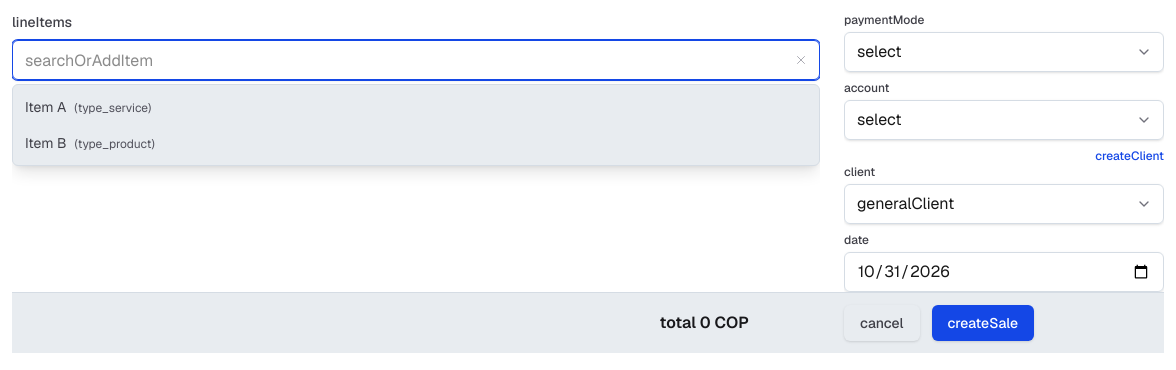
Test case: SaleForm POS search-add pattern (C12-3c) › selecting the same item again increments quantity (no new row)
expect the list with id "item-search-listbox" is shown: met, box [12, 84, 820, 166]
Press the mouse on the option "Item A(type_service)" at (88, 107), box [25, 98, 151, 116]
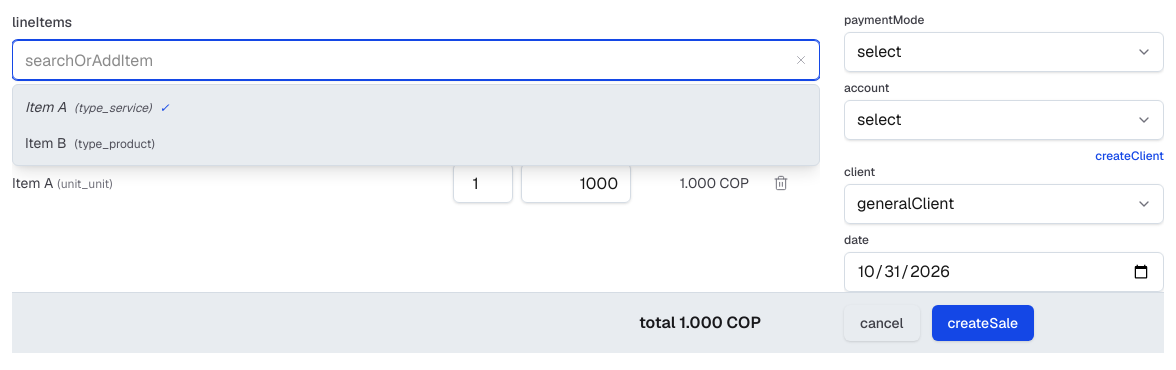
expect the list with id "item-search-listbox" is shown: met, box [12, 84, 820, 166]
Press the mouse on the option "Item A(type_service)✓" at (97, 107), box [25, 98, 169, 116]
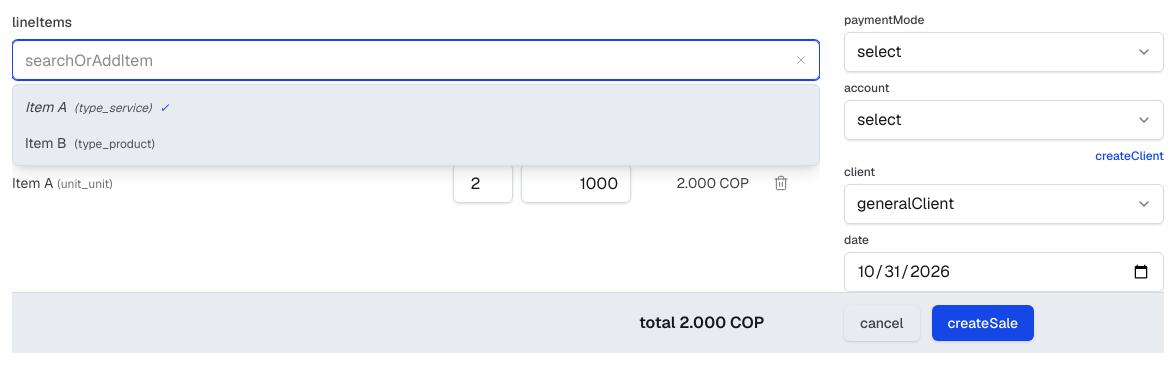
expect the number of number fields is 1: met, box [453, 163, 513, 203]
expect the number field named "qty Item A (unit_unit)" holds "2": met, box [453, 163, 513, 203]
